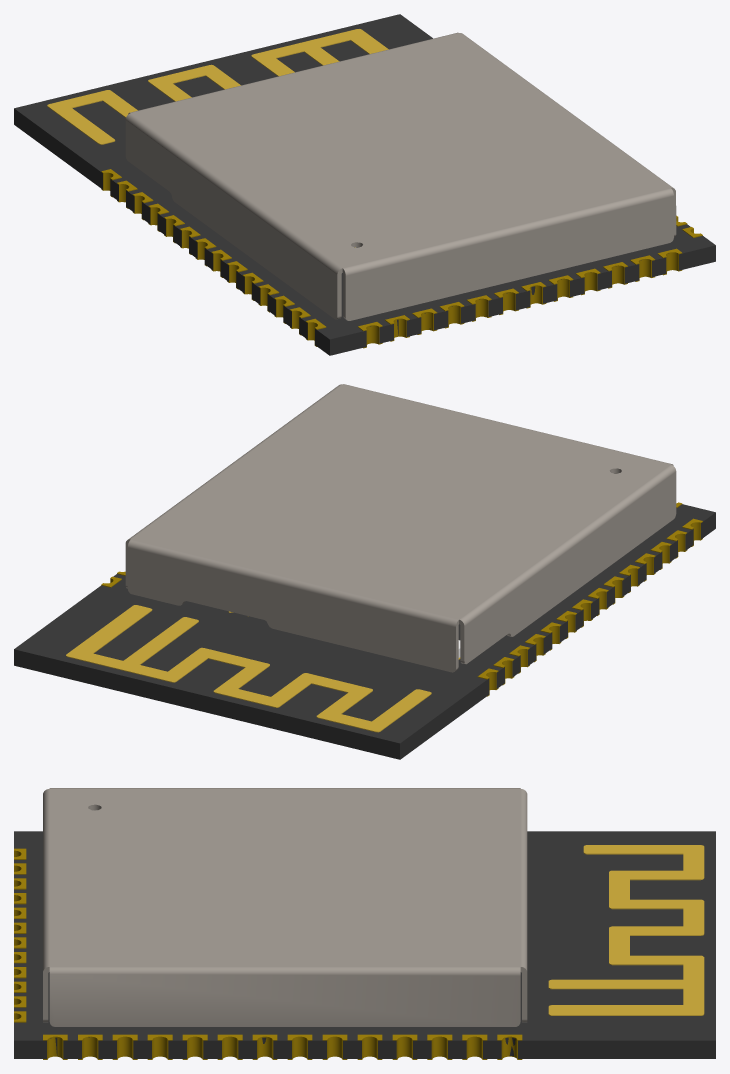
Rendered from Espressif__ESP32-S3-WROOM-1.glb.
3 renders of one model, top to bottom at view 1: azimuth 30°, elevation 25°; view 2: azimuth 150°, elevation 25°; view 3: azimuth 270°, elevation 25°, orthographic. The views are drawn at different scales.
Visible parts, largest first — view 1: ESP32-WROOM-32E_shielding_case_20210301, ESP32-S3_20210301.STEP^ESP32-S3_20210301.STEP_Submodel-QFN56, pad, trace_1^Submodel-MINI-ANT-TYPEB_668419613_part_DesignRootMod; view 2: ESP32-WROOM-32E_shielding_case_20210301, ESP32-S3_20210301.STEP^ESP32-S3_20210301.STEP_Submodel-QFN56, trace_1^Submodel-MINI-ANT-TYPEB_668419613_part_DesignRootMod, pad; view 3: ESP32-WROOM-32E_shielding_case_20210301, ESP32-S3_20210301.STEP^ESP32-S3_20210301.STEP_Submodel-QFN56, trace_1^Submodel-MINI-ANT-TYPEB_668419613_part_DesignRootMod, pad.
Boxes of the visible parts, x1,y1,x2,y2 form: ESP32-WROOM-32E_shielding_case_20210301: (125, 32, 676, 320); ESP32-S3_20210301.STEP^ESP32-S3_20210301.STEP_Submodel-QFN56: (14, 14, 715, 355); pad: (101, 169, 702, 348); trace_1^Submodel-MINI-ANT-TYPEB_668419613_part_DesignRootMod: (47, 29, 388, 247); ESP32-WROOM-32E_shielding_case_20210301: (125, 384, 676, 672); ESP32-S3_20210301.STEP^ESP32-S3_20210301.STEP_Submodel-QFN56: (14, 504, 715, 759); trace_1^Submodel-MINI-ANT-TYPEB_668419613_part_DesignRootMod: (66, 605, 460, 732); pad: (101, 502, 702, 696); ESP32-WROOM-32E_shielding_case_20210301: (43, 788, 527, 1026); ESP32-S3_20210301.STEP^ESP32-S3_20210301.STEP_Submodel-QFN56: (14, 831, 715, 1058); trace_1^Submodel-MINI-ANT-TYPEB_668419613_part_DesignRootMod: (548, 845, 704, 1015); pad: (14, 848, 522, 1059).
Bounding box in the file's own units: 0.018 × 0.0031 × 0.0255.
